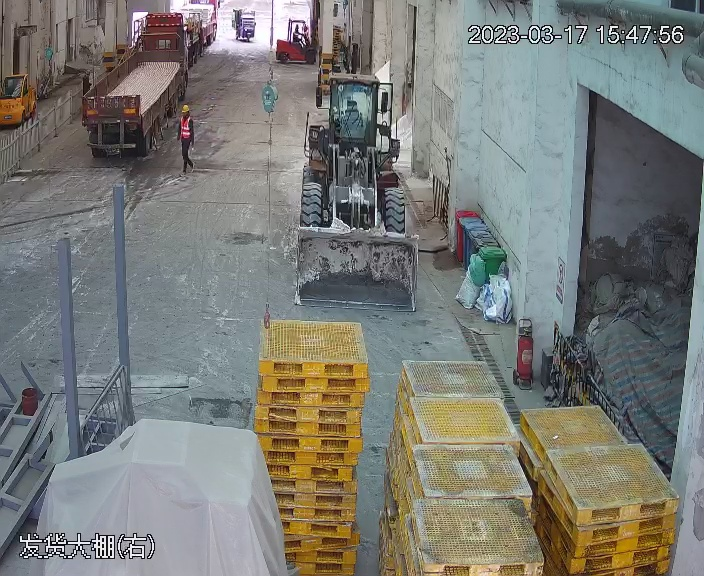head: (178, 104, 196, 127)
helmet: (181, 104, 191, 114)
people: (177, 103, 197, 177)
truck: (80, 7, 212, 161)
